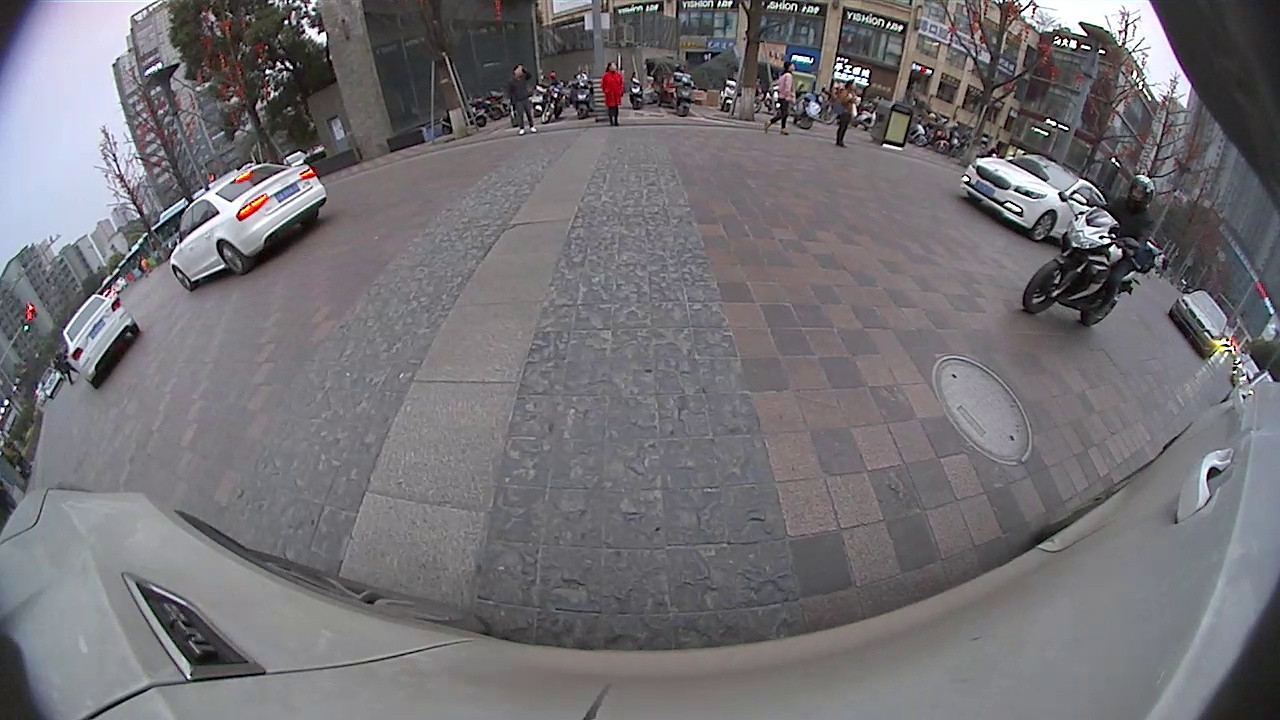car: (167, 161, 330, 294), (957, 149, 1108, 245), (60, 290, 143, 390), (1165, 287, 1231, 363)
front: (1019, 257, 1076, 318), (1027, 211, 1055, 245), (172, 265, 197, 294)
person: (509, 64, 531, 135), (837, 77, 858, 144), (779, 55, 795, 133), (605, 61, 623, 127)
rear: (219, 241, 253, 278)
rider: (1019, 173, 1158, 329)
